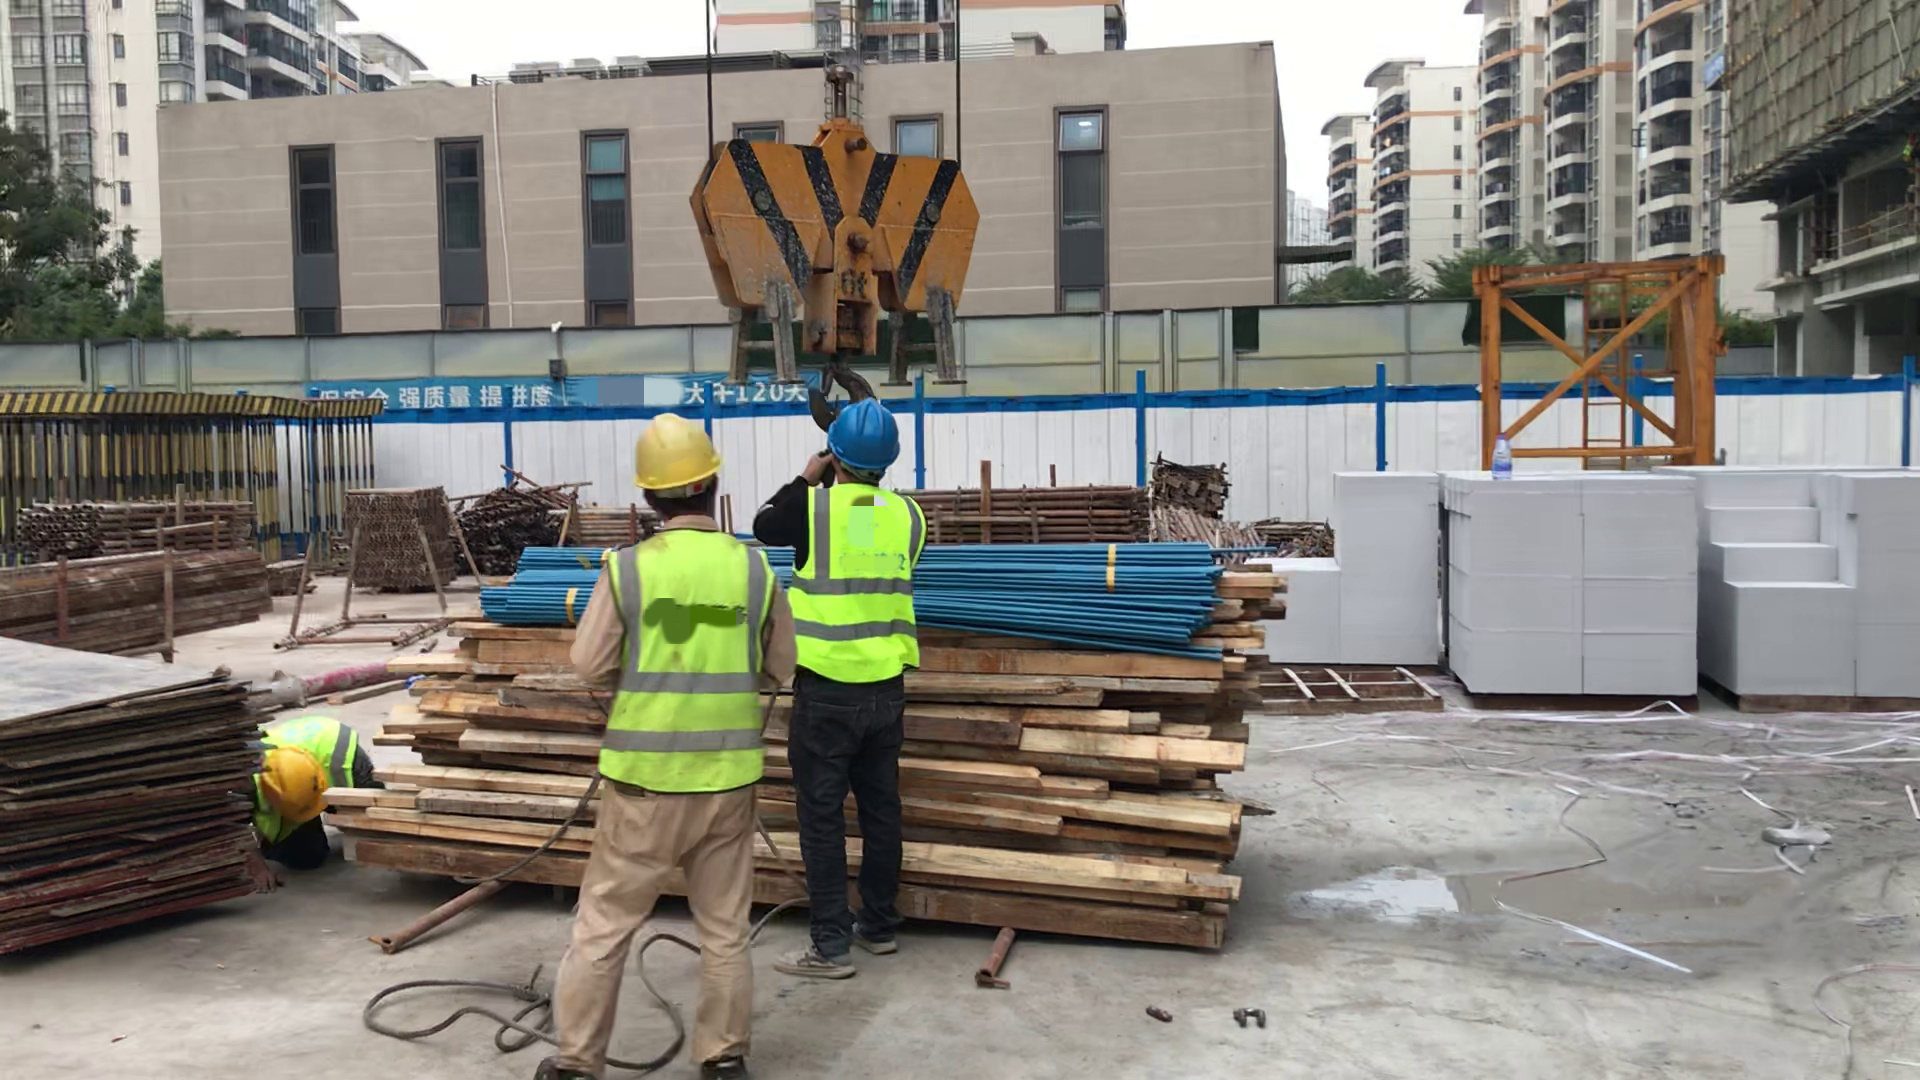board: (1, 637, 262, 954)
brick: (1686, 411, 1920, 699), (1444, 464, 1711, 706), (1207, 450, 1444, 679)
helmet: (626, 408, 725, 490), (825, 398, 901, 474)
hook: (691, 131, 981, 332)
person: (549, 413, 782, 1080), (782, 402, 921, 971)
scaffold: (896, 473, 1158, 551), (3, 490, 266, 564)
slogan: (308, 376, 575, 412)
vest: (603, 531, 771, 806), (795, 482, 915, 693)
wood: (308, 645, 1275, 941)
